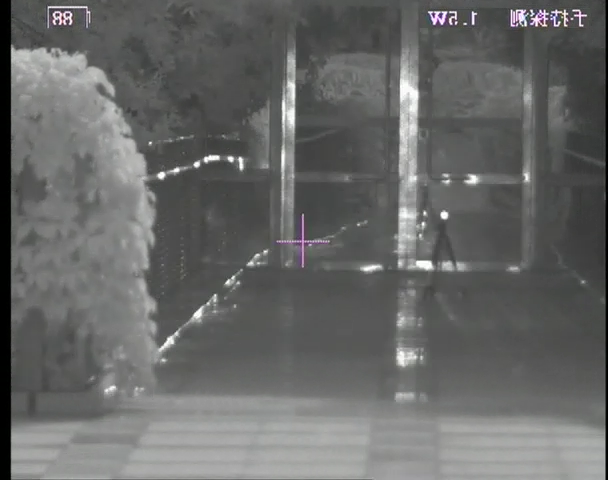my: (439, 209, 450, 221)
